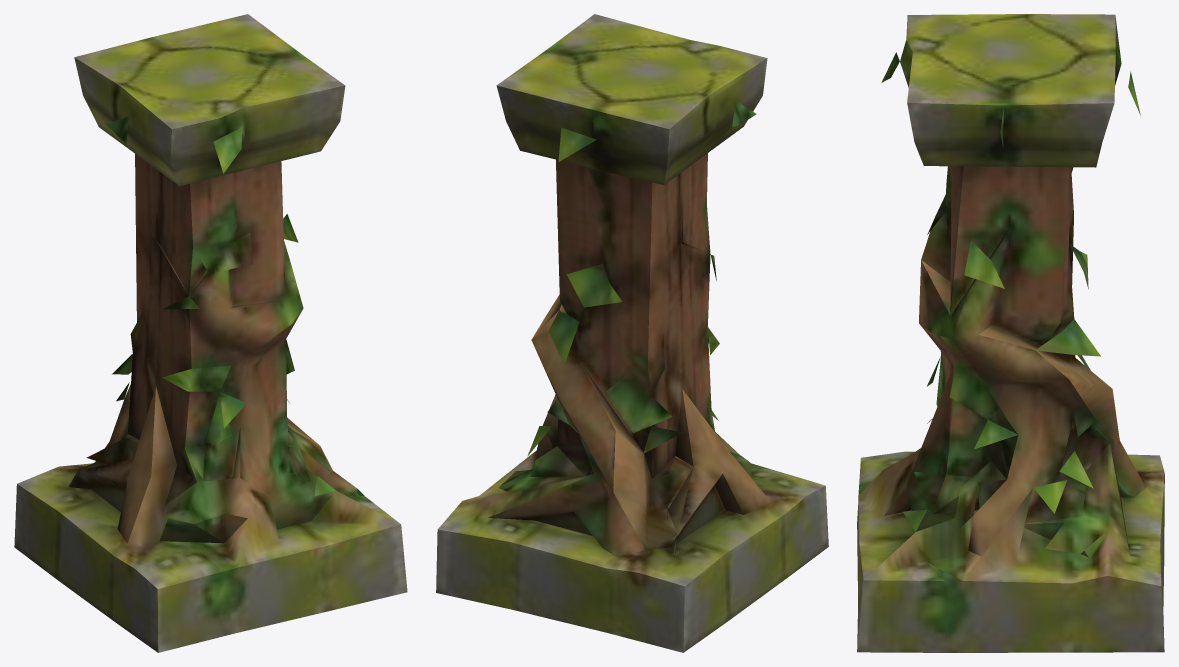
Rendered from b_racines_pilier.glb.
3 renders of one model, left to right at view 1: azimuth 30°, elevation 25°; view 2: azimuth 150°, elevation 25°; view 3: azimuth 270°, elevation 25°, orthographic. The views are drawn at different scales.
Visible parts, largest first — view 1: geometry_0; view 2: geometry_0; view 3: geometry_0.
Part boxes in pixels (bbox=[...]): geometry_0: bbox=[14, 14, 407, 652]; geometry_0: bbox=[436, 14, 828, 652]; geometry_0: bbox=[857, 14, 1164, 652].
Size of the model in its own units: 1 by 1.91 by 1.
Materials: 1 (1 with a texture image).
